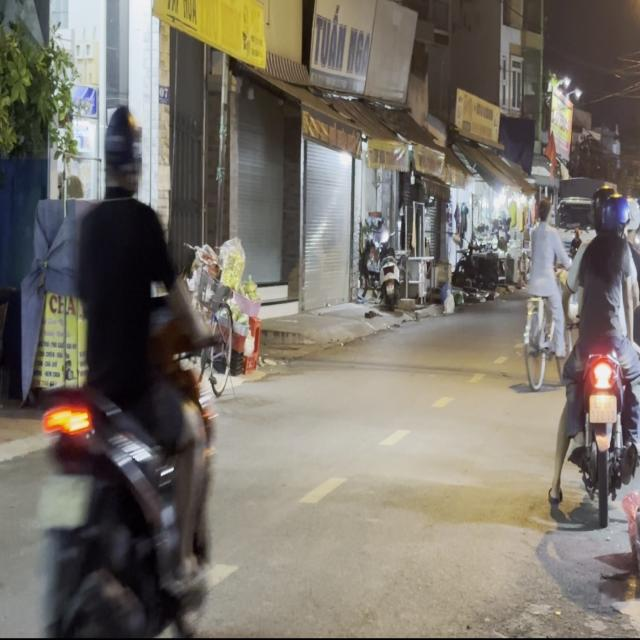helmet: (98, 102, 144, 194), (596, 183, 622, 234)
licenseplate: (20, 98, 222, 631), (547, 179, 640, 517)
motorcyclist: (535, 194, 550, 222)
nohelmet: (35, 474, 91, 526), (589, 393, 615, 421)
